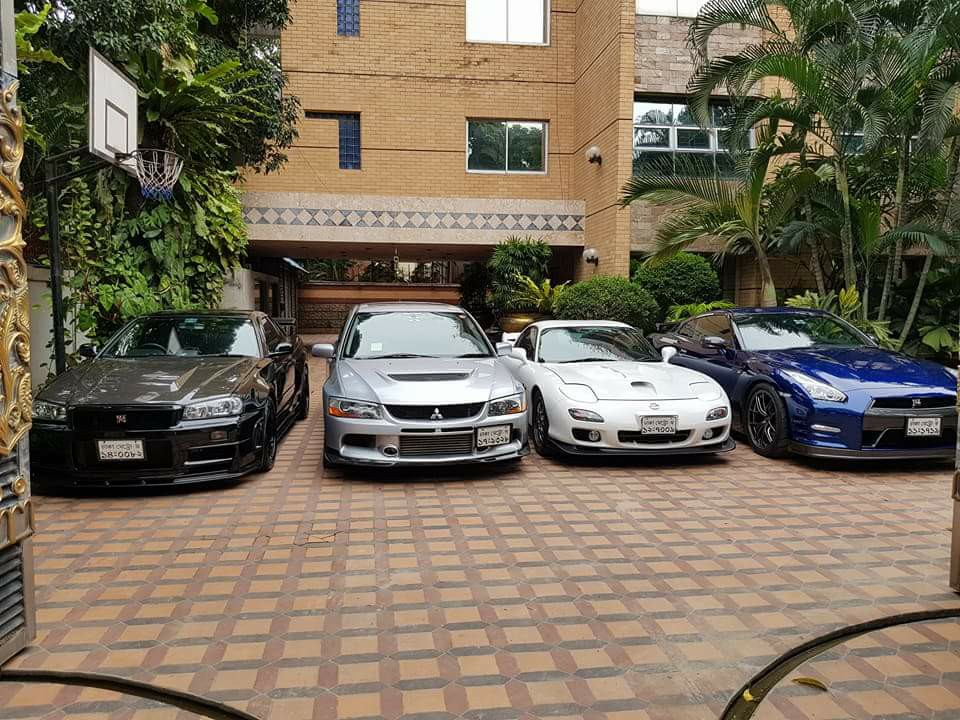registration_plate: (97, 438, 145, 459), (476, 424, 511, 447), (907, 417, 941, 436), (641, 416, 676, 434)
